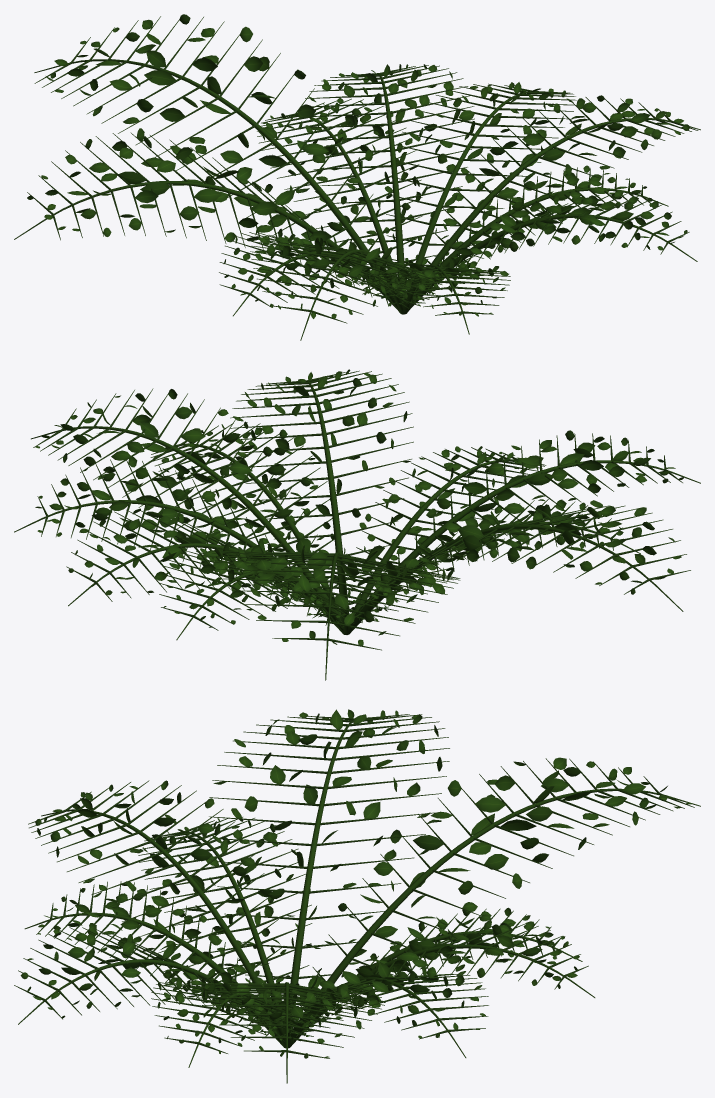
The model's file is fern_small_lod1.gltf.
3 renders of one model, top to bottom at view 1: azimuth 30°, elevation 25°; view 2: azimuth 150°, elevation 25°; view 3: azimuth 270°, elevation 25°, orthographic. The views are drawn at different scales.
Parts seen in each view (by area): view 1: fern_small_lod1; view 2: fern_small_lod1; view 3: fern_small_lod1.
Boxes of the visible parts, bbox=[...] form: fern_small_lod1: bbox=[14, 14, 700, 340]; fern_small_lod1: bbox=[14, 369, 700, 680]; fern_small_lod1: bbox=[14, 709, 700, 1083].
Size of the model in its own units: 1.69 by 0.4815 by 1.45.
1 material, 1 textured.
